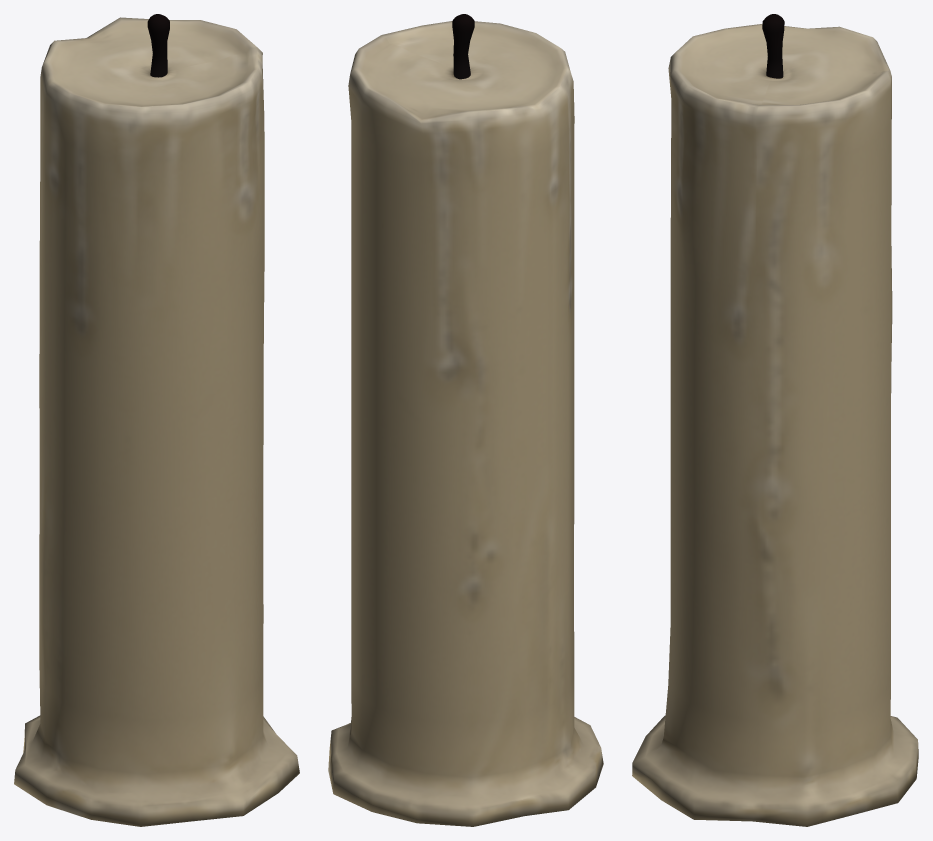
Rendered from candle_04.fbx.
3 views of the same model, side by side, from view 1: azimuth 30°, elevation 25°; view 2: azimuth 150°, elevation 25°; view 3: azimuth 270°, elevation 25° (orthographic).
Parts seen in each view (by area): view 1: Candle_004; view 2: Candle_004; view 3: Candle_004.
Boxes of the visible parts, x1,y1,x2,y2 form: Candle_004: [14, 14, 299, 826]; Candle_004: [328, 14, 603, 826]; Candle_004: [632, 14, 918, 826].
Size of the model in its own units: 33.85 by 101 by 34.56.
